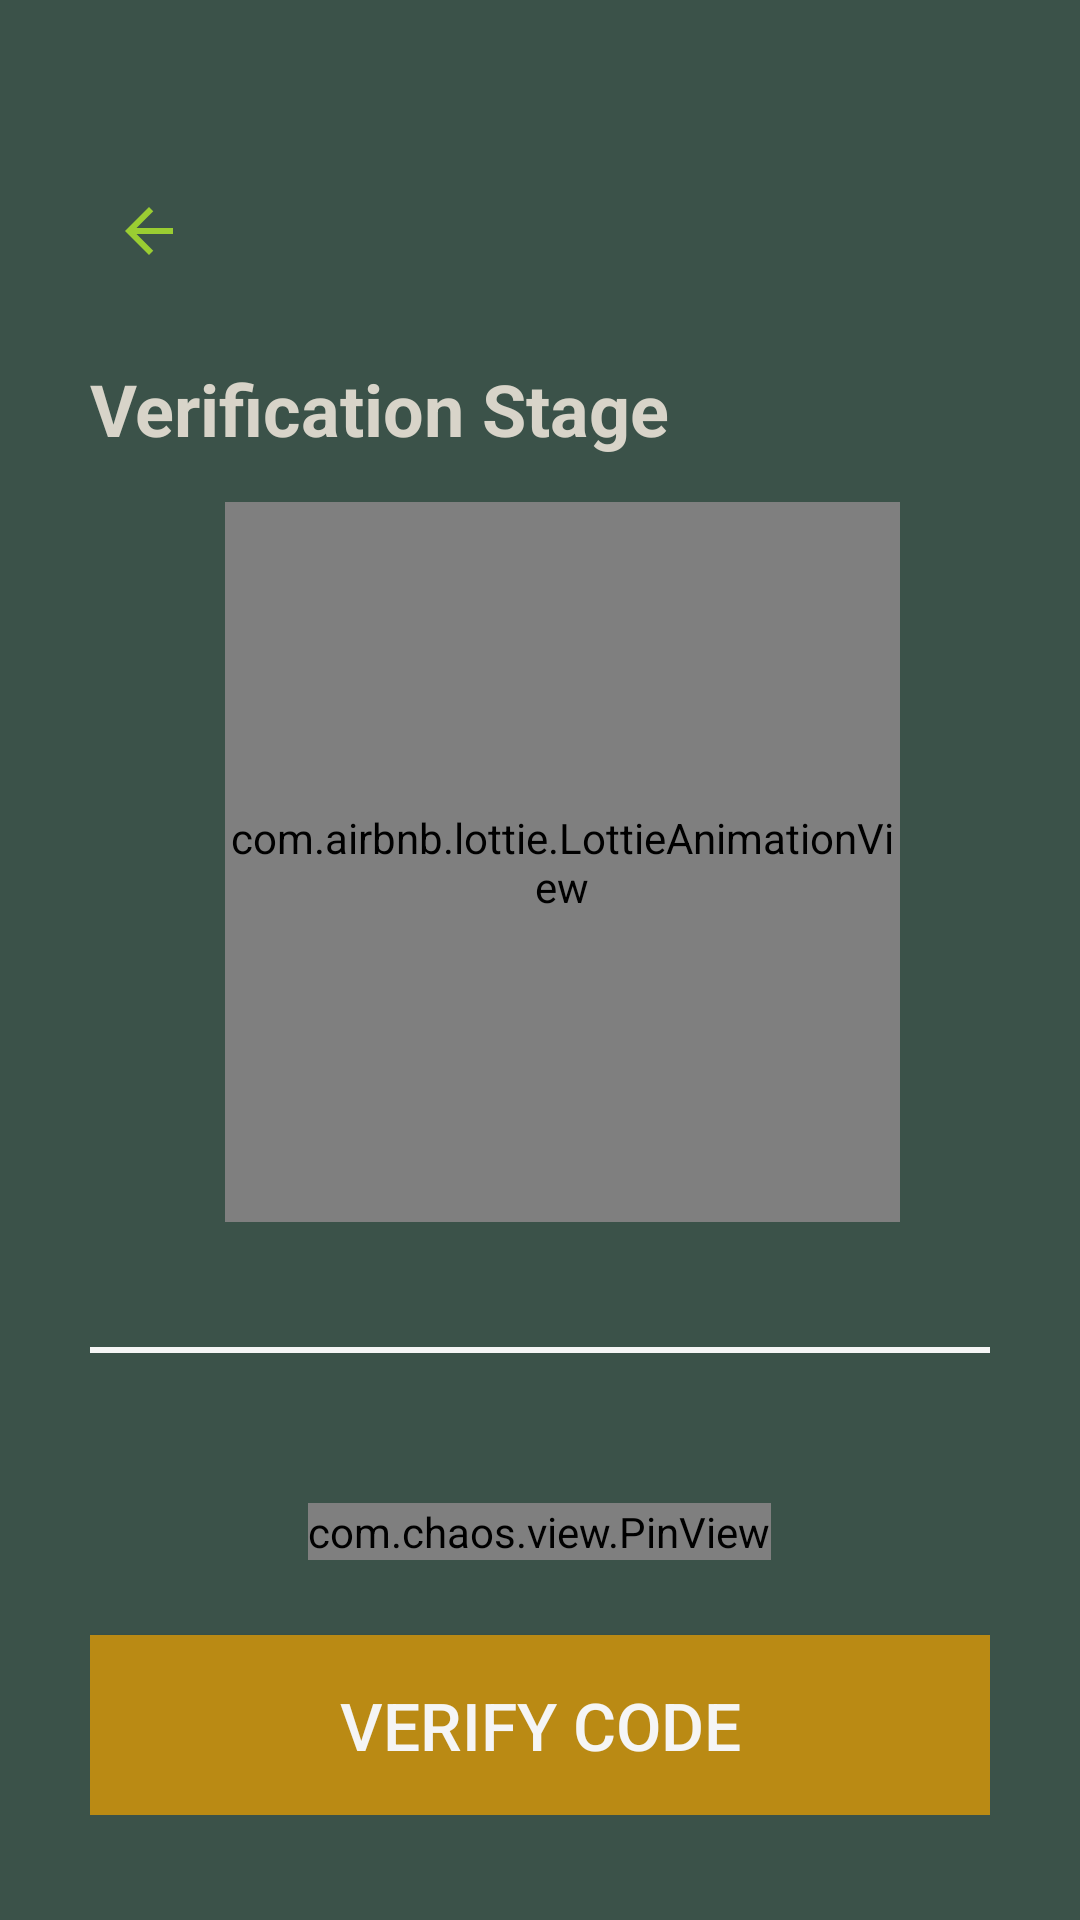

Named icons in this screenshot (1080w x 1920h) and their bounding boxes, (x1, y1, x2, y2):
arrow back: (125, 207, 173, 255)
